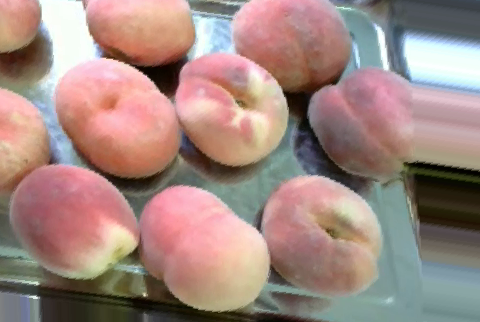Peach: (136, 185, 265, 308), (54, 57, 181, 176), (12, 165, 139, 282), (261, 174, 380, 296), (173, 49, 292, 164), (309, 66, 422, 177), (234, 0, 350, 90), (83, 0, 194, 64), (1, 85, 48, 198)
